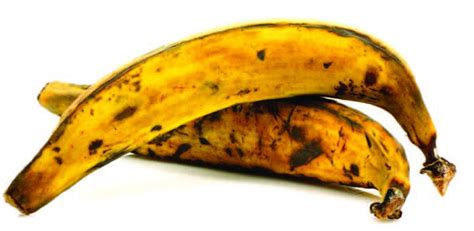banana: (5, 15, 442, 218), (35, 75, 416, 213)
